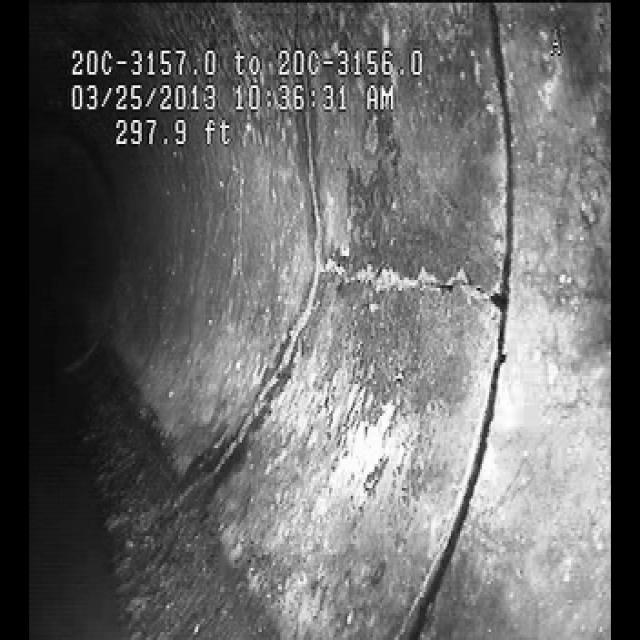Fracture: (288, 214, 496, 354)
